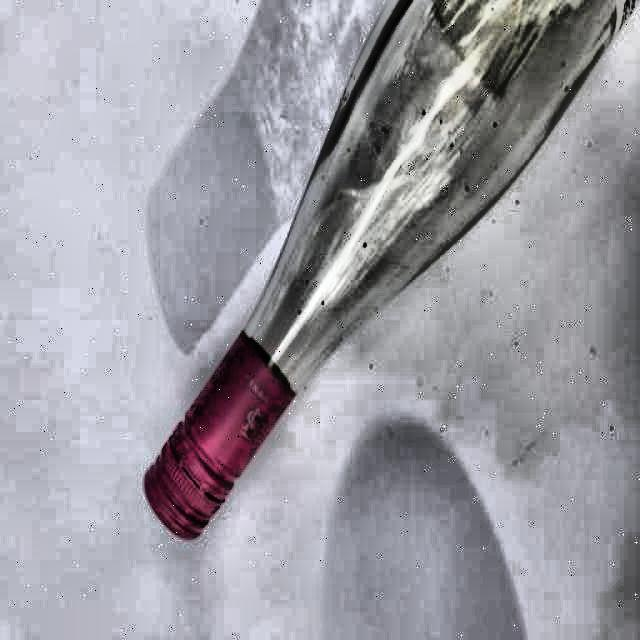glass: (144, 0, 639, 544)
